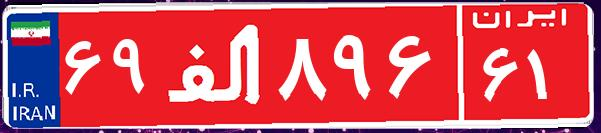1: (525, 38, 570, 115)
6: (385, 28, 445, 110), (57, 26, 110, 107), (475, 38, 525, 113)
8: (273, 28, 330, 110)
9: (330, 28, 385, 110), (110, 28, 158, 105)
الف: (158, 15, 273, 115)
